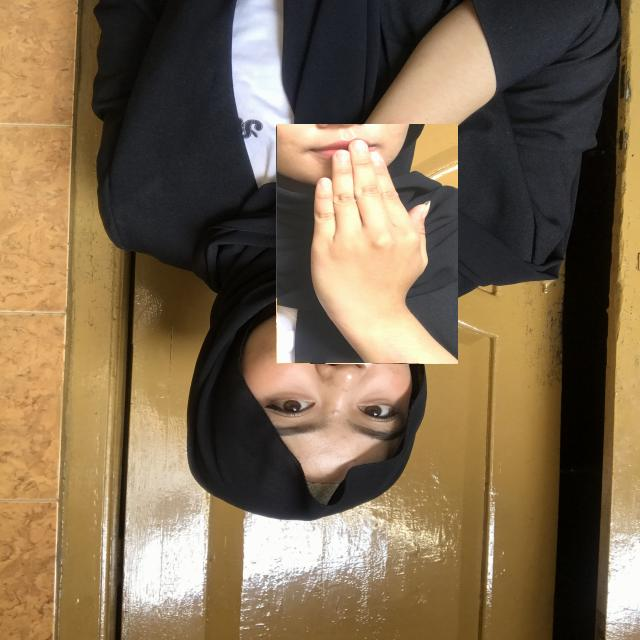ganteng: (276, 124, 458, 364)
